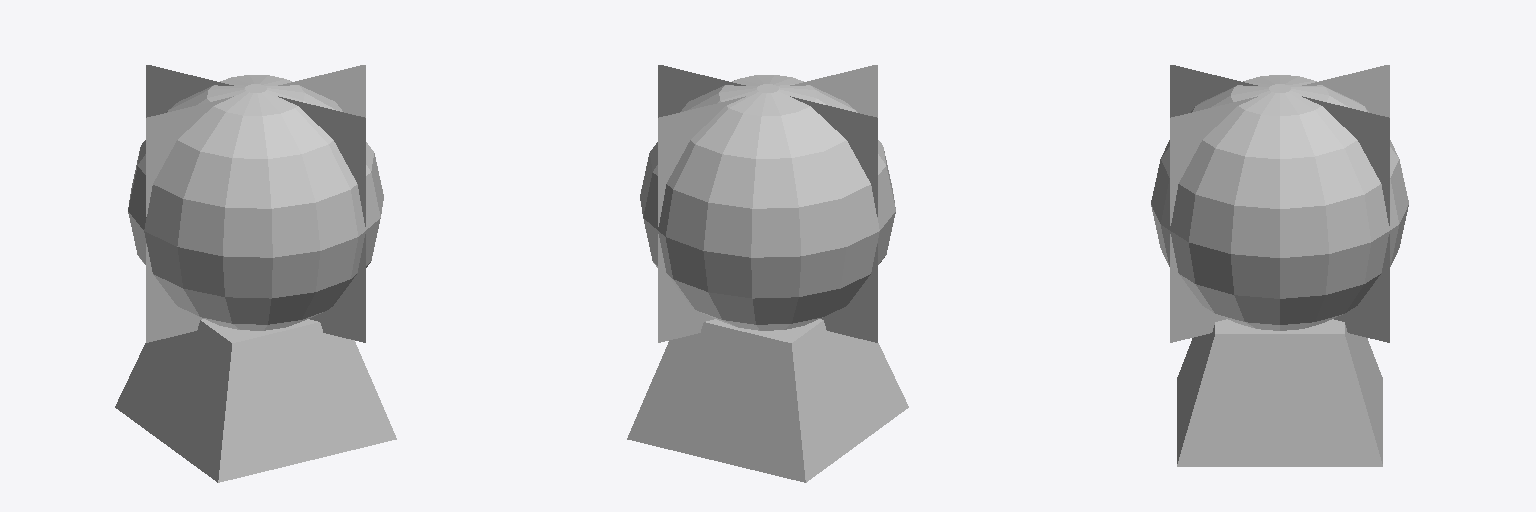
File: homedecor_plasma_ball.obj
3 renders of one model, left to right at view 1: azimuth 30°, elevation 25°; view 2: azimuth 150°, elevation 25°; view 3: azimuth 270°, elevation 25°, orthographic.
Visible parts, largest first — view 1: globe_Cylinder.001, base_Cylinder, streamers_Cylinder.002; view 2: globe_Cylinder.001, base_Cylinder, streamers_Cylinder.002; view 3: globe_Cylinder.001, base_Cylinder, streamers_Cylinder.002.
Boxes of the visible parts, x1=… form: globe_Cylinder.001: x1=128, y1=75, x2=383, y2=330; base_Cylinder: x1=115, y1=319, x2=396, y2=482; streamers_Cylinder.002: x1=146, y1=65, x2=365, y2=342; globe_Cylinder.001: x1=640, y1=75, x2=895, y2=330; base_Cylinder: x1=627, y1=319, x2=908, y2=482; streamers_Cylinder.002: x1=658, y1=65, x2=877, y2=342; globe_Cylinder.001: x1=1151, y1=75, x2=1408, y2=330; base_Cylinder: x1=1177, y1=319, x2=1382, y2=466; streamers_Cylinder.002: x1=1170, y1=65, x2=1389, y2=342.
Bounding box in the file's own units: 0.3478 × 0.4969 × 0.3478.